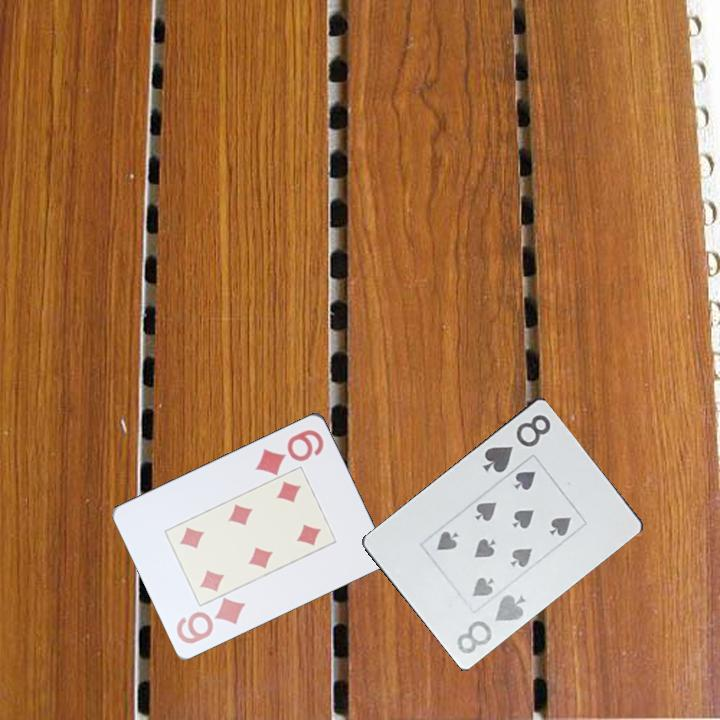6d: (251, 425, 327, 477), (173, 594, 249, 646)
8s: (453, 590, 528, 657), (479, 410, 554, 475)
